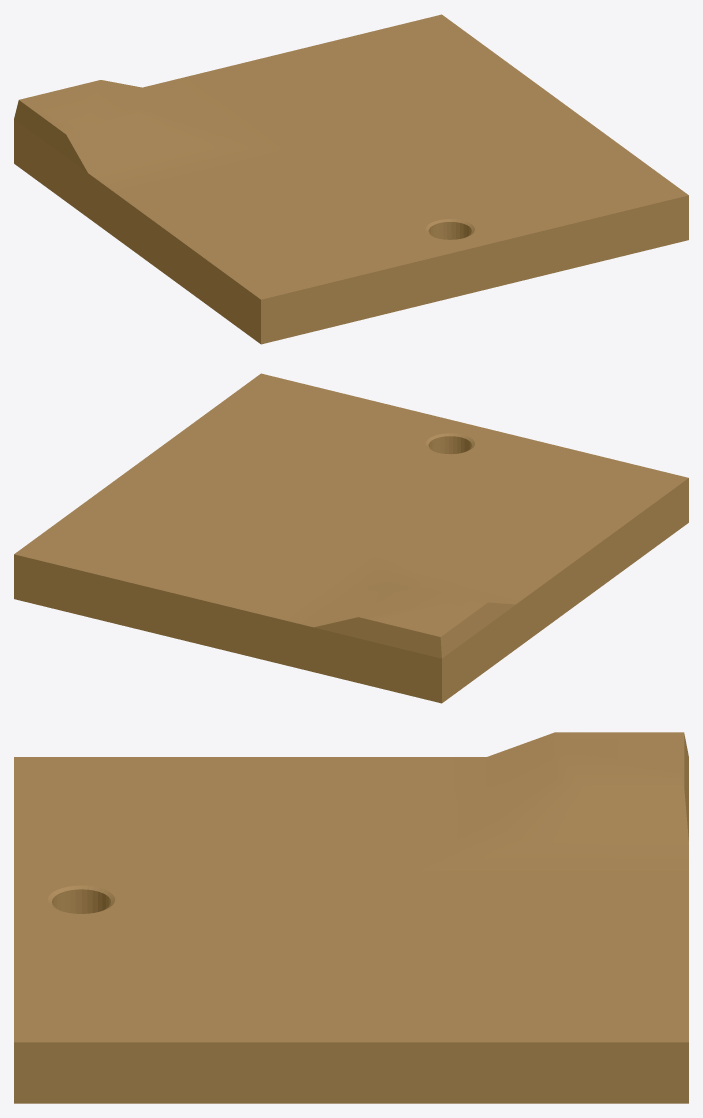
3 views of the same model, one above another, from view 1: azimuth 30°, elevation 25°; view 2: azimuth 150°, elevation 25°; view 3: azimuth 270°, elevation 25° (orthographic). The views are drawn at different scales.
Visible parts, largest first — view 1: GB4.001; view 2: GB4.001; view 3: GB4.001.
Boxes of the visible parts, x1,y1,x2,y2 form: GB4.001: (14, 14, 688, 344); GB4.001: (14, 373, 688, 703); GB4.001: (14, 732, 688, 1103).
Bounding box in the file's own units: 2000 × 287 × 2000.
